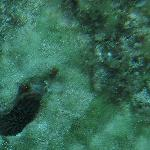dead: (4, 6, 145, 147)
